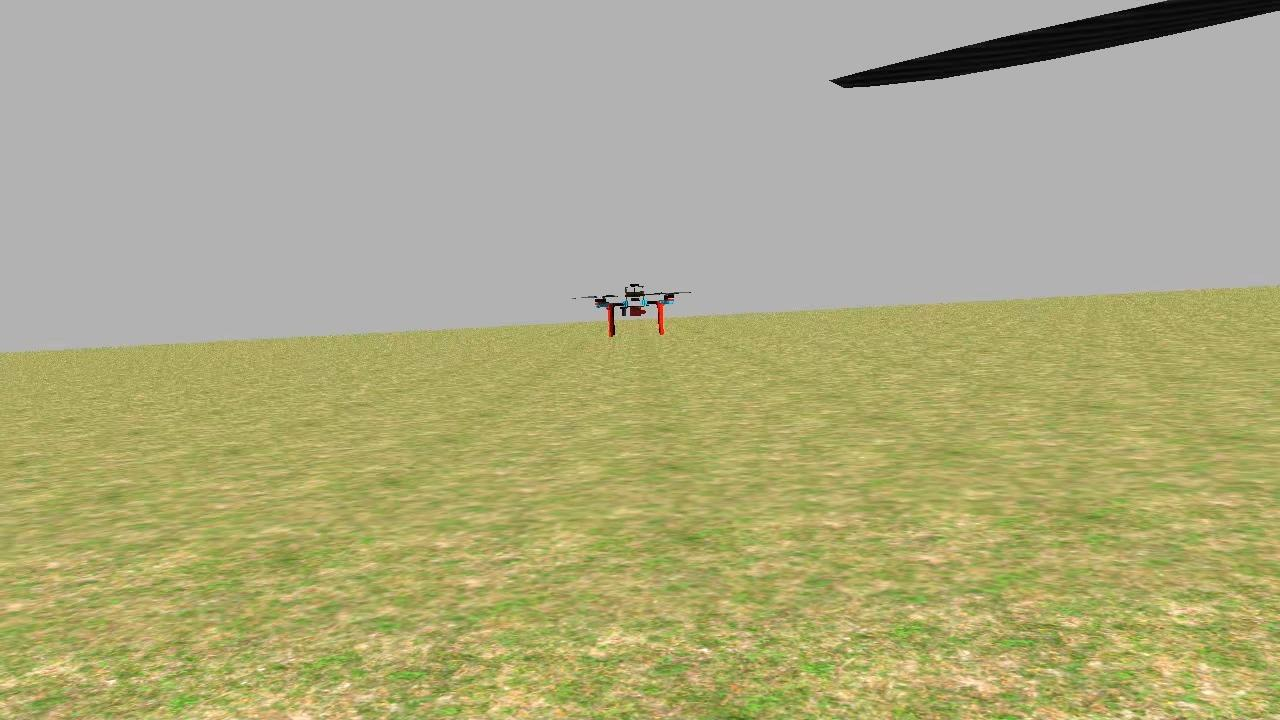UAV: (588, 276, 680, 346)
